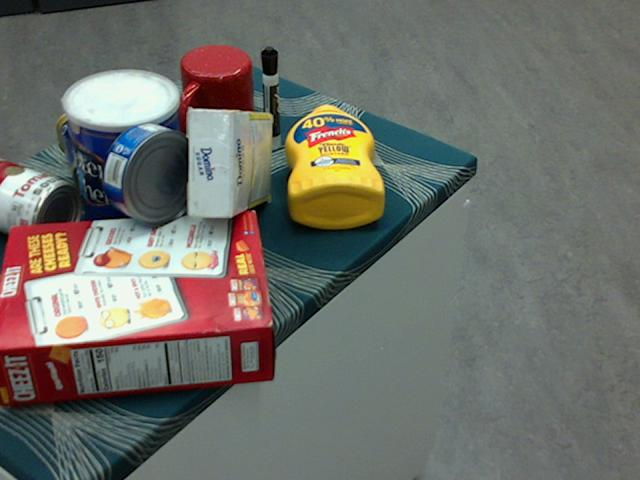cracker_box: (0, 210, 274, 404)
large_marker: (261, 45, 279, 150)
master_chef_can: (63, 71, 186, 252)
mug: (174, 45, 258, 143)
mustard_bottle: (285, 103, 385, 228)
potted_meat_can: (56, 102, 167, 193)
sugar_box: (188, 110, 269, 219)
tomato_soup_can: (0, 155, 81, 248)
tuna_fish_can: (101, 122, 201, 224)
